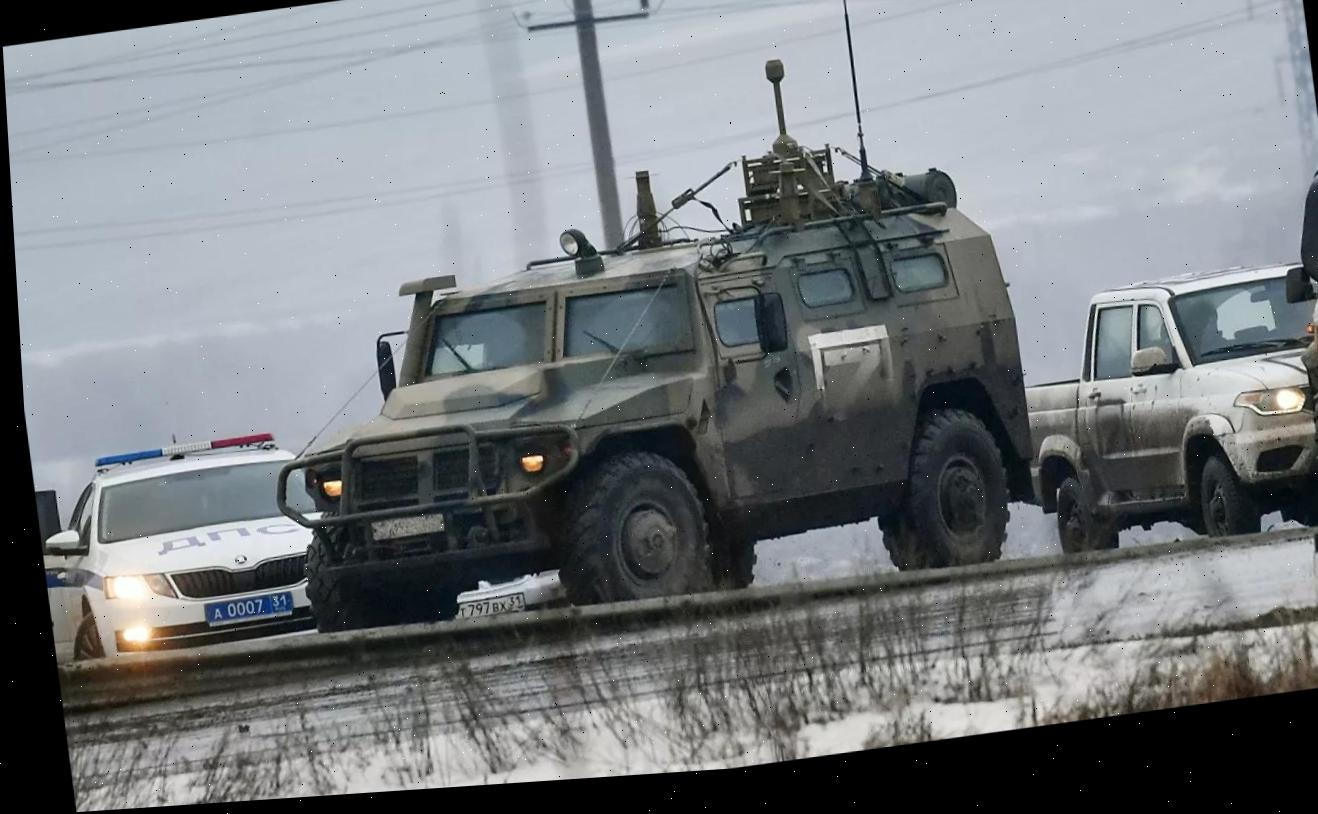armored_car: (258, 150, 1054, 658), (1281, 163, 1318, 555)
car: (1006, 246, 1318, 575), (39, 420, 358, 679)
